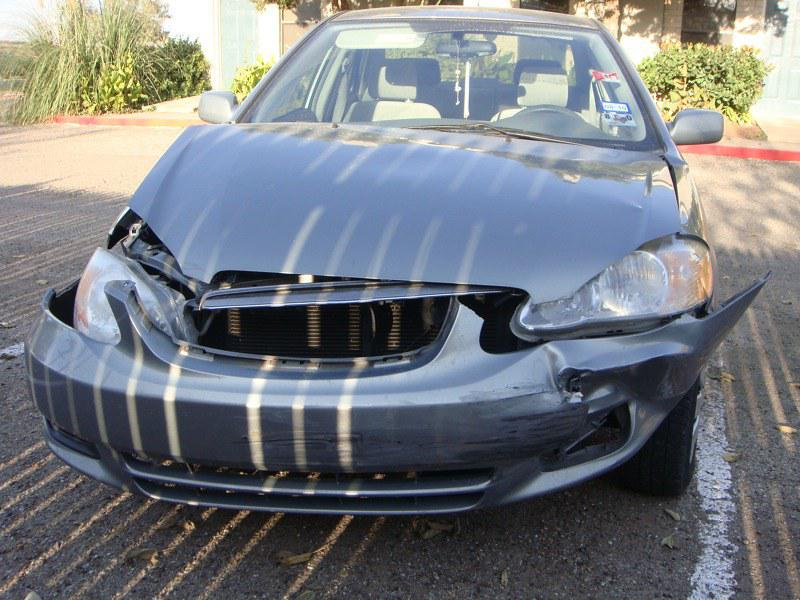bonnet-dent: (137, 126, 676, 294)
front-bumper-dent: (47, 302, 636, 522)
